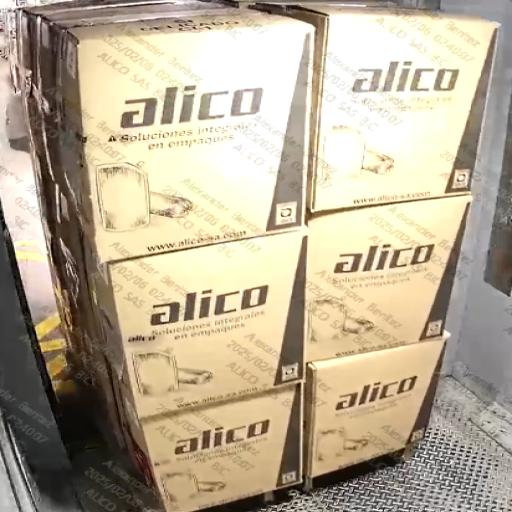Rollos sin amarrar: (169, 17, 432, 439)
